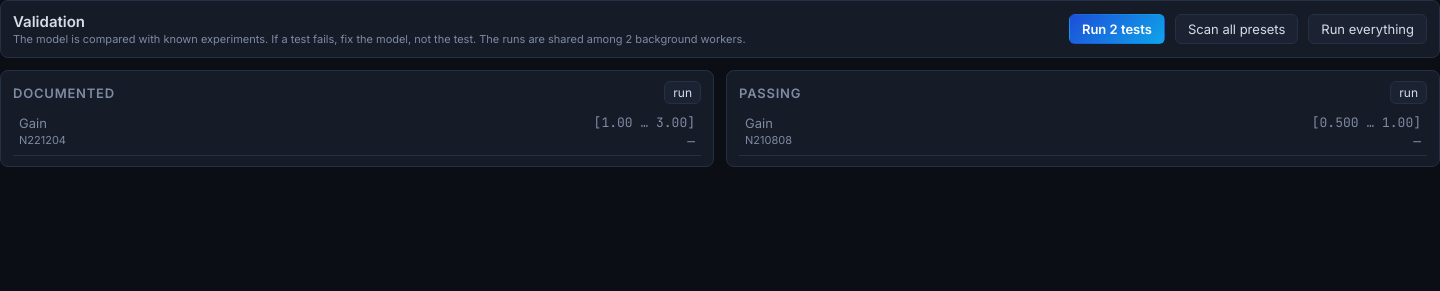
it: Validation view › a documented miss is badged as such, not as FAIL, and the summary says how many tests passed
Click the button "Run 2 tests" at (1117, 29), box [1069, 14, 1165, 44]
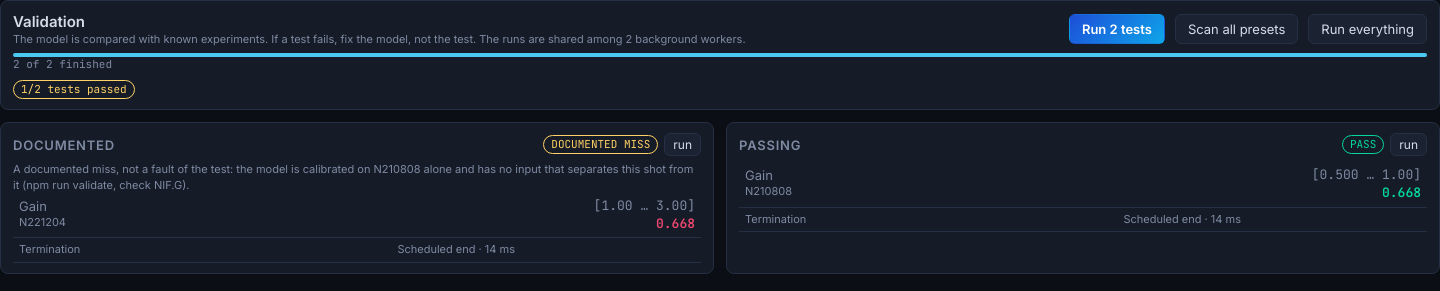
Result: the text "PASS" is shown at [1342, 135, 1384, 154]
Result: the text "A documented miss, not a fault of the test" is shown at [13, 162, 693, 192]
